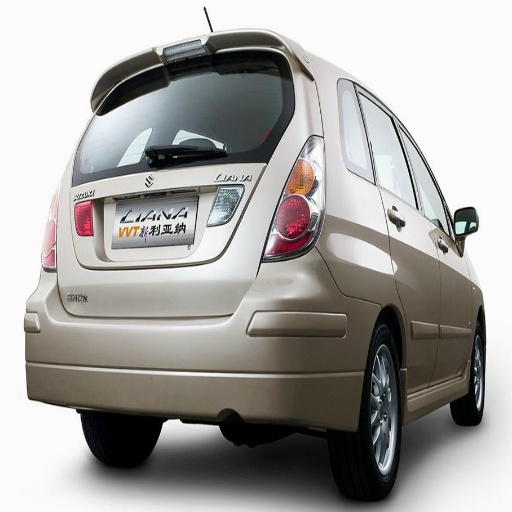back_bumper: (23, 247, 372, 425), (69, 267, 222, 292)
back_glass: (72, 68, 270, 178)
back_left_door: (238, 41, 295, 134)
back_right_door: (338, 81, 436, 391)
tailgate: (58, 159, 271, 312)
trunk: (64, 280, 204, 315)
